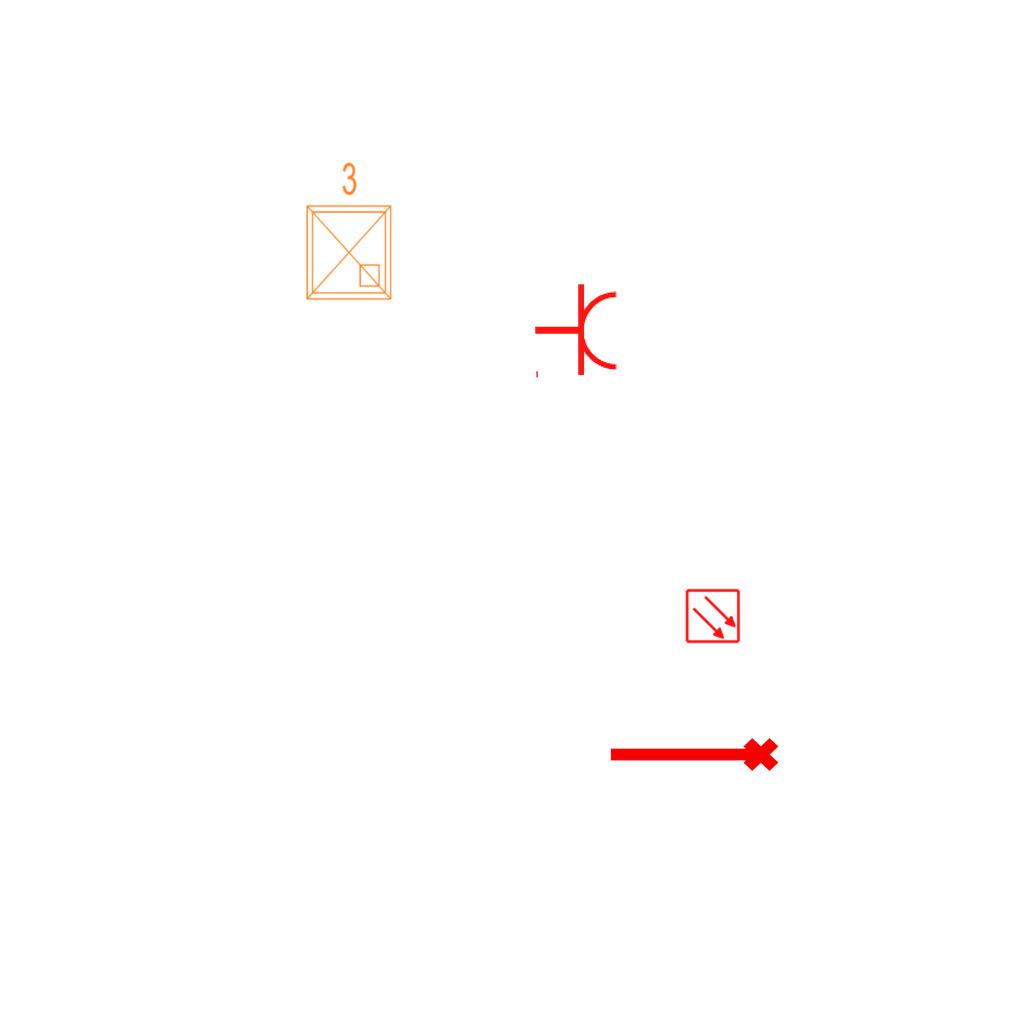ASR_Ansaugoeffnung: (605, 734, 781, 780)
Einbaudownlights_LED_Konferenzraeume: (295, 157, 399, 307)
RMO_Rauchmelder_optischer: (685, 588, 741, 644)
Schukosteckdose_einfach: (533, 282, 620, 382)
